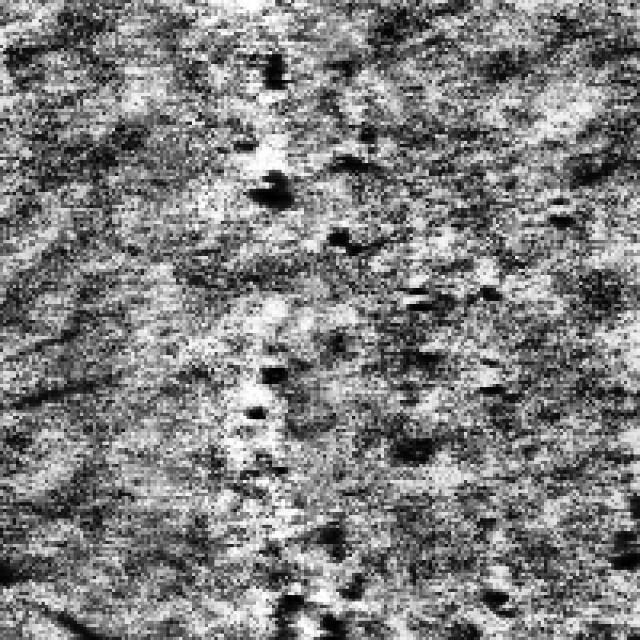Crazing: (388, 198, 566, 416), (243, 26, 384, 186)
